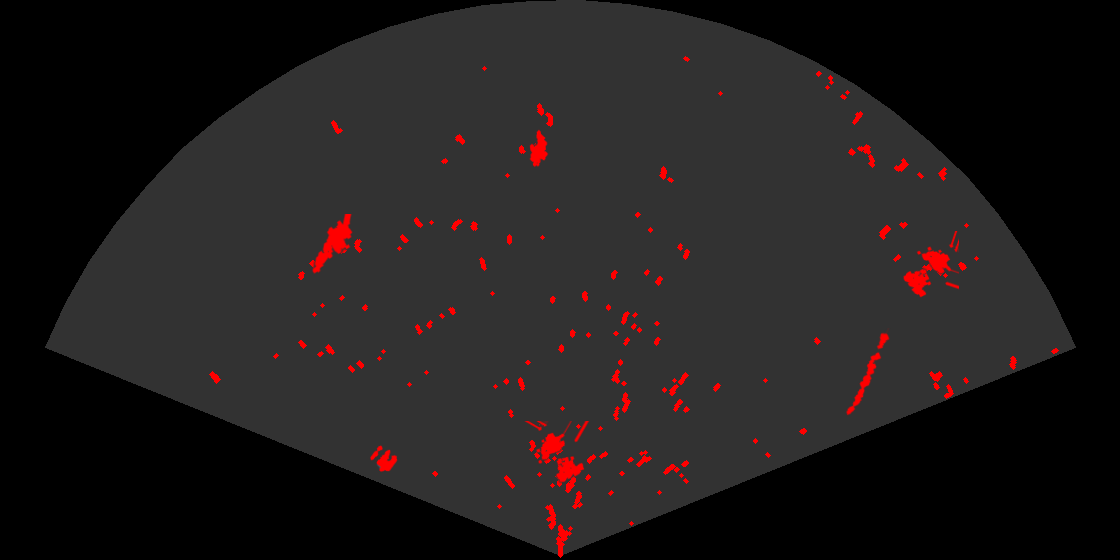AUV: (528, 128, 550, 169)
ball: (369, 444, 399, 474)
cage: (523, 421, 591, 484), (902, 231, 959, 299)
chain: (844, 328, 891, 417)
frogman: (311, 214, 354, 276)
